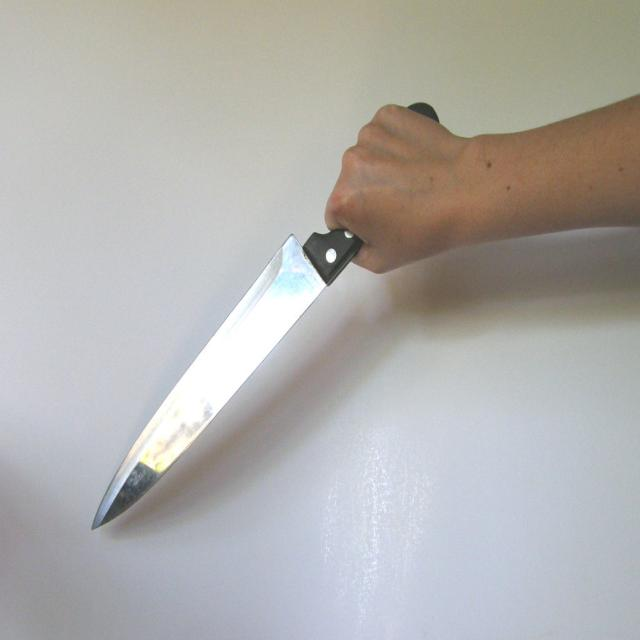knife: (88, 223, 363, 556)
